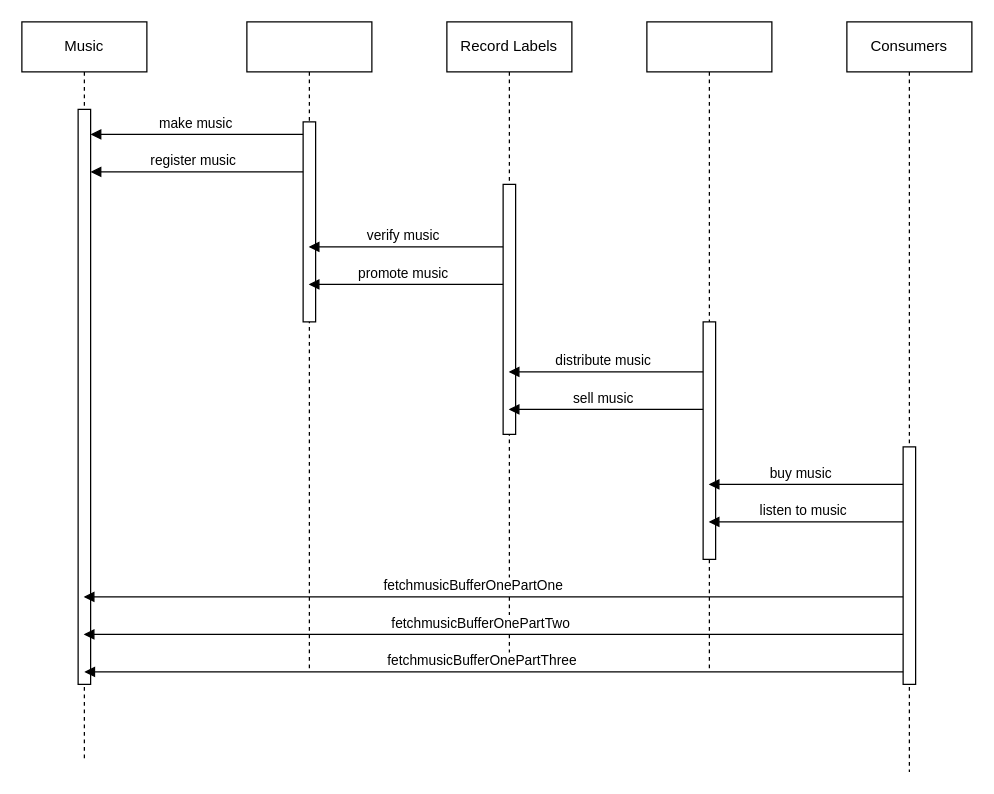
The diagram is 994 pixels wide and 794 high, and some of its shapes have lost their labels. Here are the shapes that lost their labels. From the top down, the box of each, then its label:
(246, 21, 372, 672): Artist
(646, 21, 772, 672): Distributors
